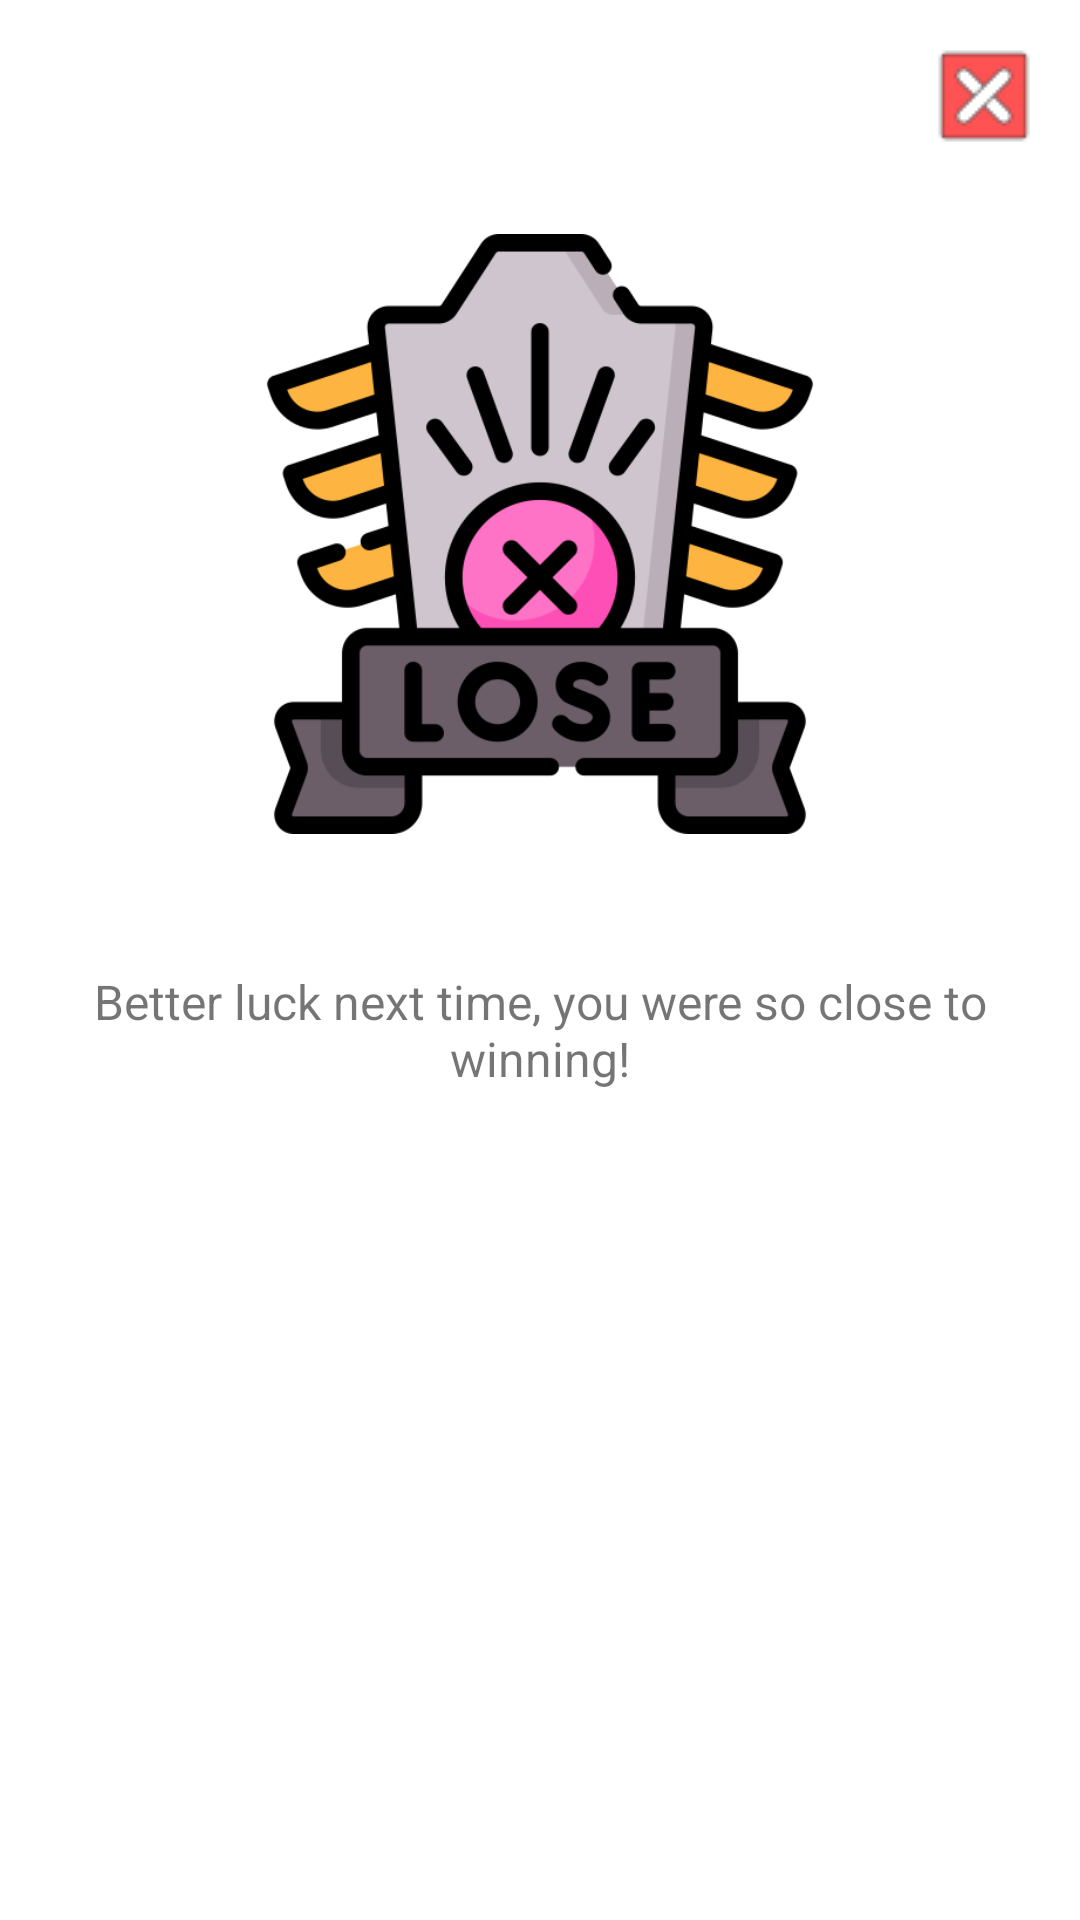

Icons on this 1080 x 1920 Android screen, each with its box as (x1, y1, x2, y2):
close: (939, 51, 1029, 141)
